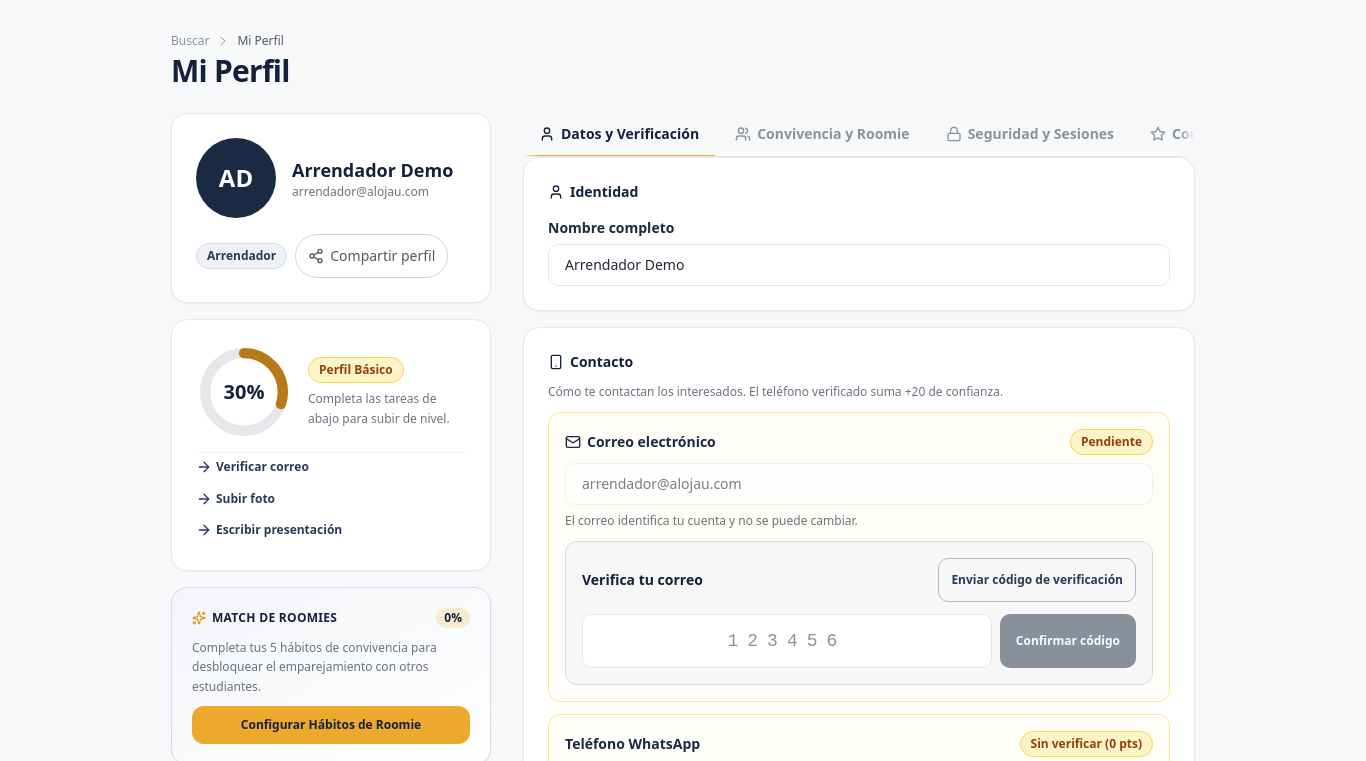
Perfil - Perfil verificable + confianza clara › eliminar cuenta abre modal explicativo independiente
Check: the field showing "arrendador@alojau.com" is shown, box [565,463,1153,505]
Click the tab "Seguridad y Sesiones" at (1030,135), box [930,113,1130,157]
(page scrolled)
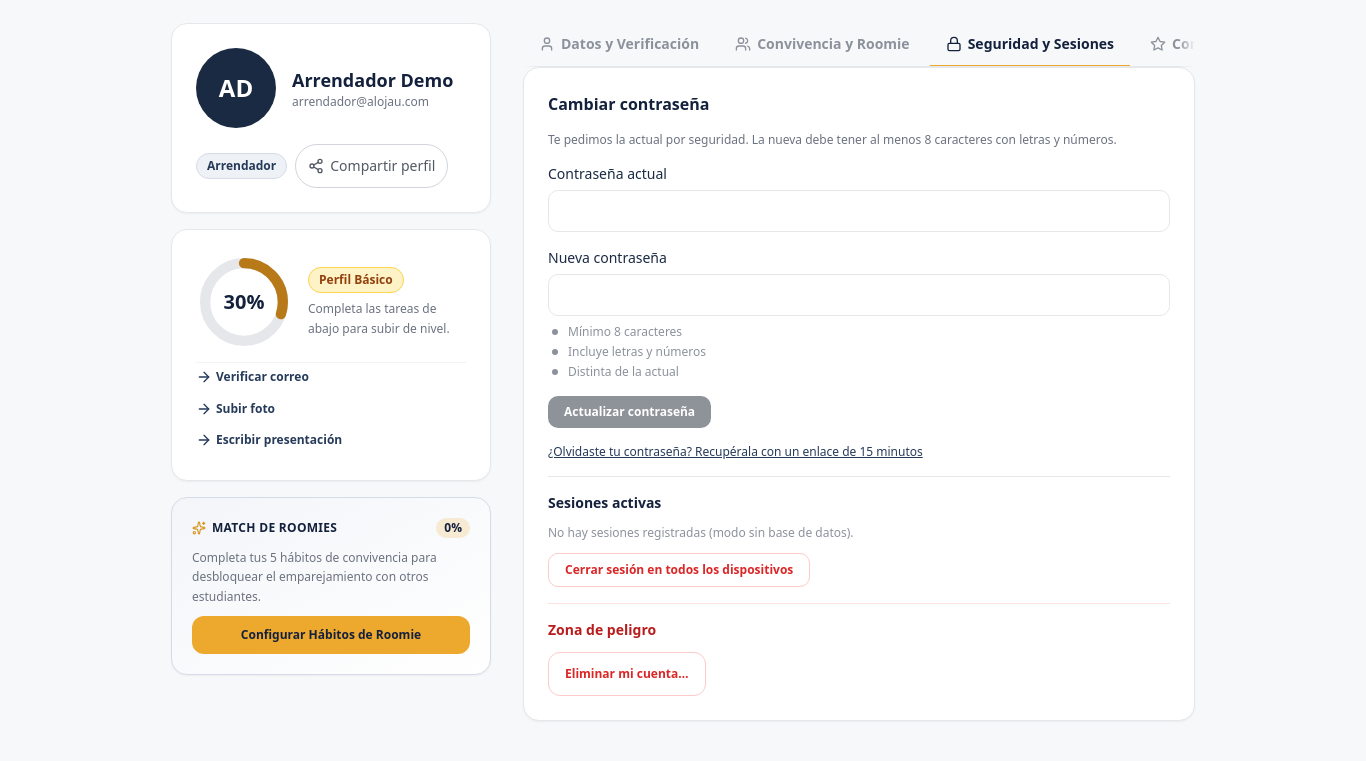
Click the button "Eliminar mi cuenta…" at (627,674), box [548,652,706,696]
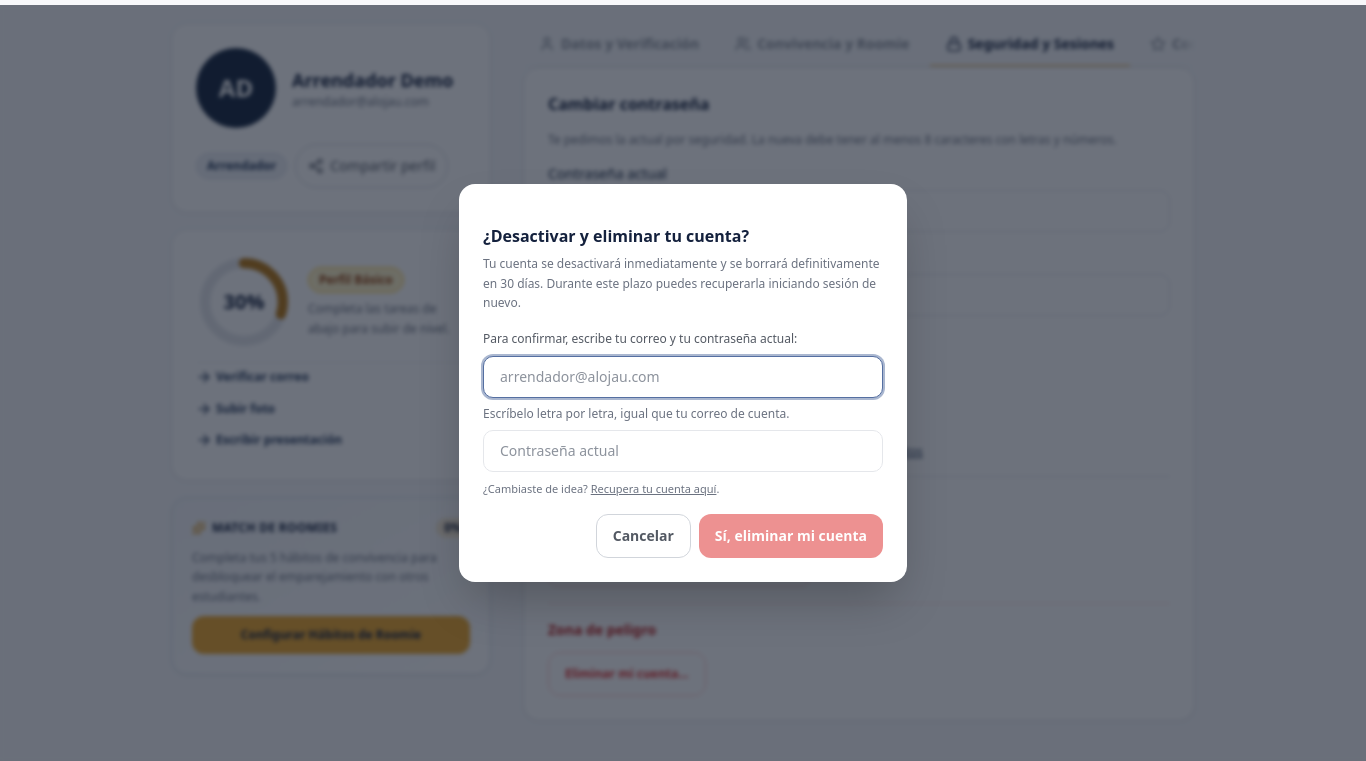
Check: the dialog "¿Desactivar y eliminar tu cuenta?" is shown
Check: the text "se borrará definitivamente en 30 días" is shown, box [483,255,880,311]
Click the button "Cancelar" at (643,536), box [596,514,691,558]
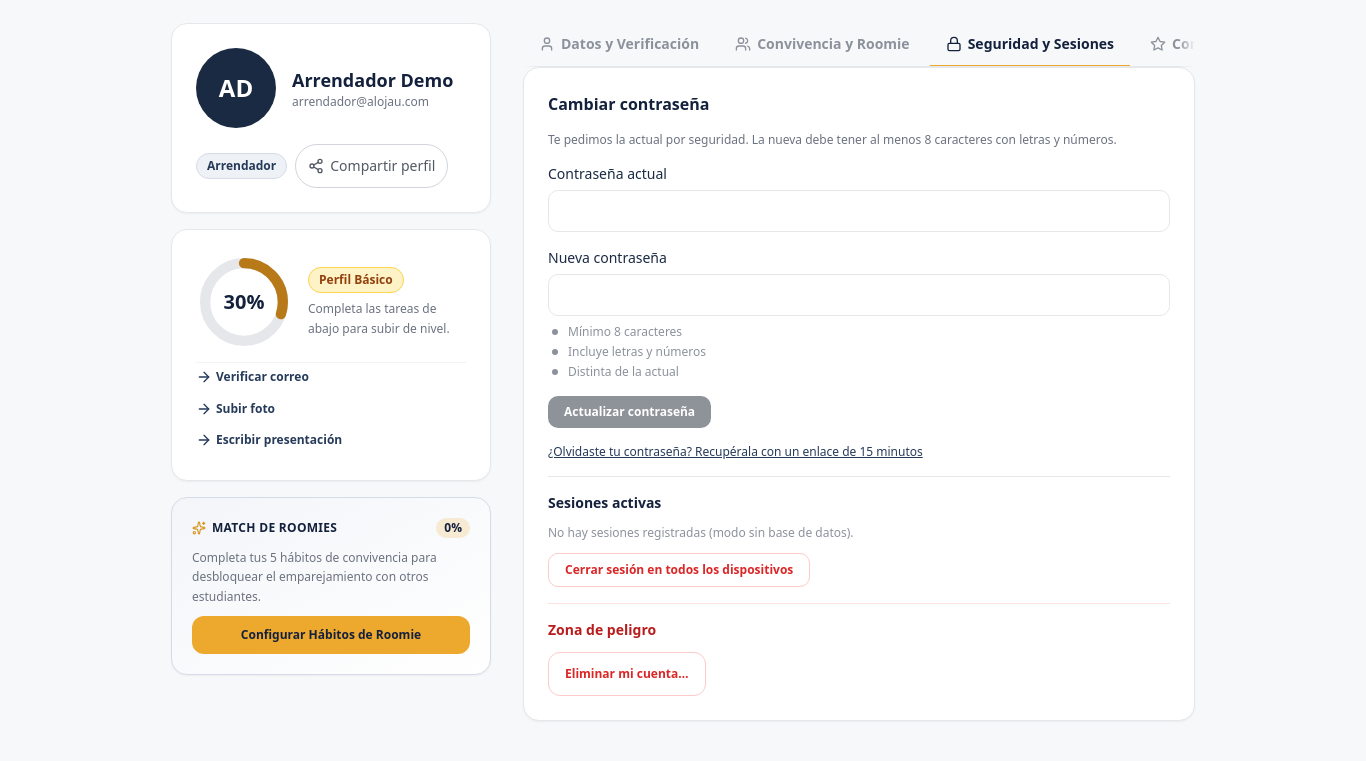
Check: the heading "¿Desactivar y eliminar tu cuenta?" is gone
